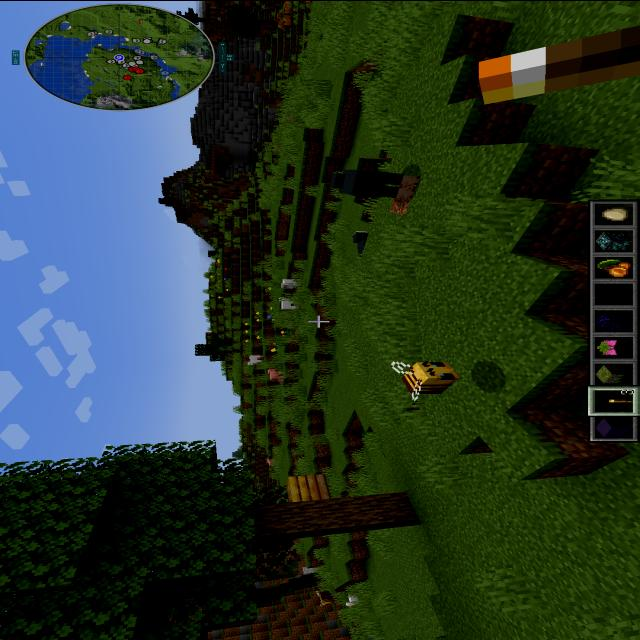bee: (386, 352, 463, 406), (314, 588, 336, 608)
chicken: (343, 591, 364, 609)
pig: (265, 367, 288, 382), (264, 454, 278, 466)
